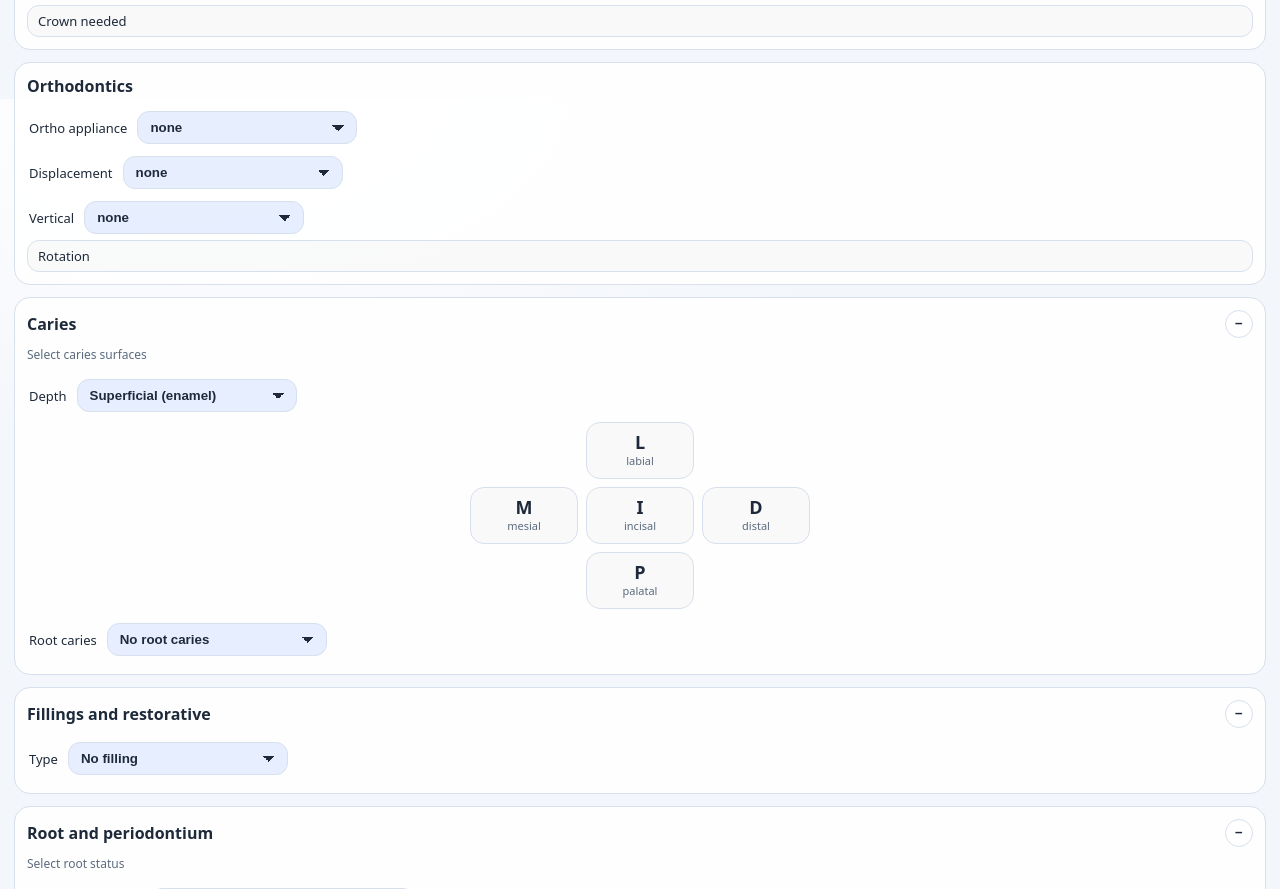
PR 3c: <CariesCard/> renders declaratively › clicking a caried surface's .surf-depth indicator opens the severity popup
(page scrolled)
Caries must be present on the surface for the indicator to act.
Click the checkbox with id "chk-caries-buccal" at point(640, 450), box [586,422,694,479]
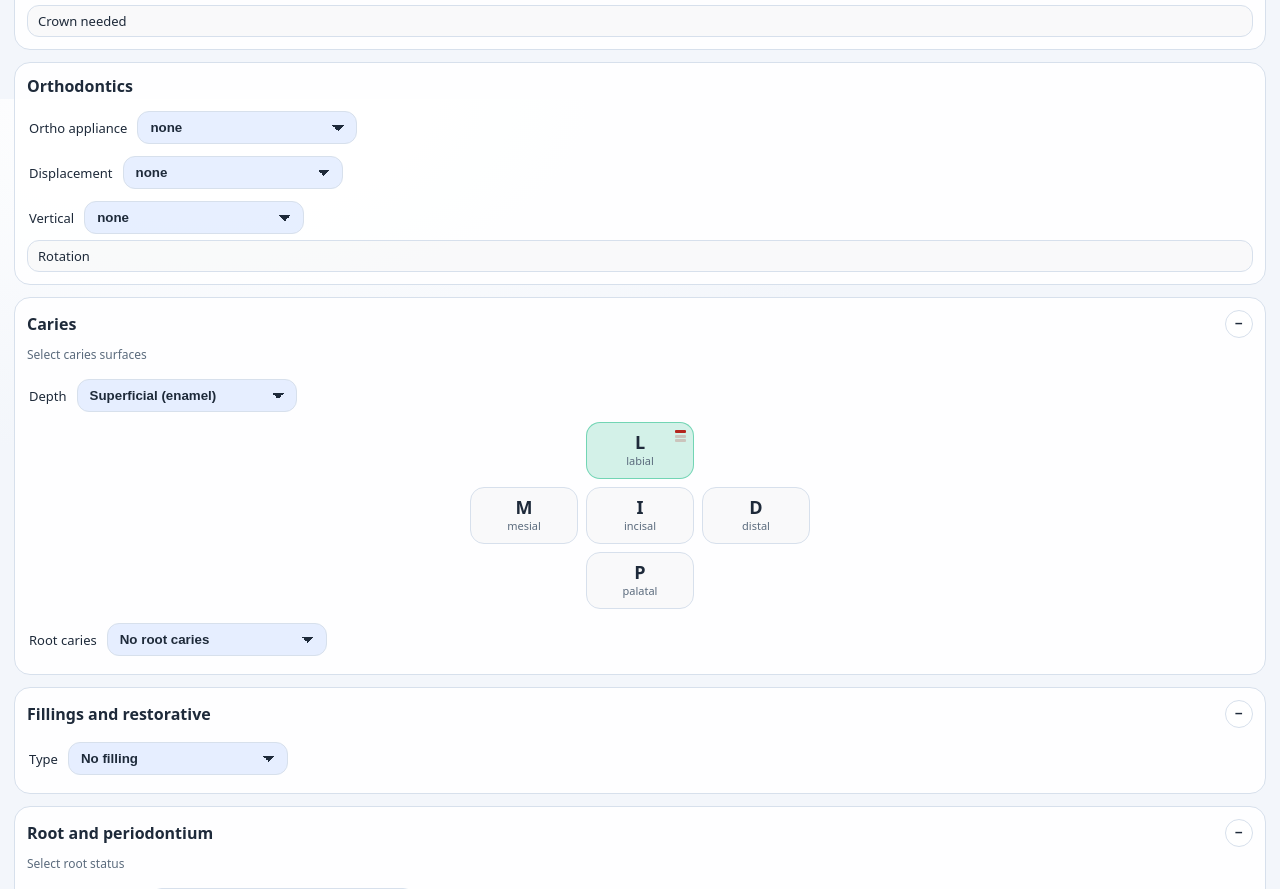
Click the element with class "surf-depth" at point(680, 436), box [675,430,686,442]
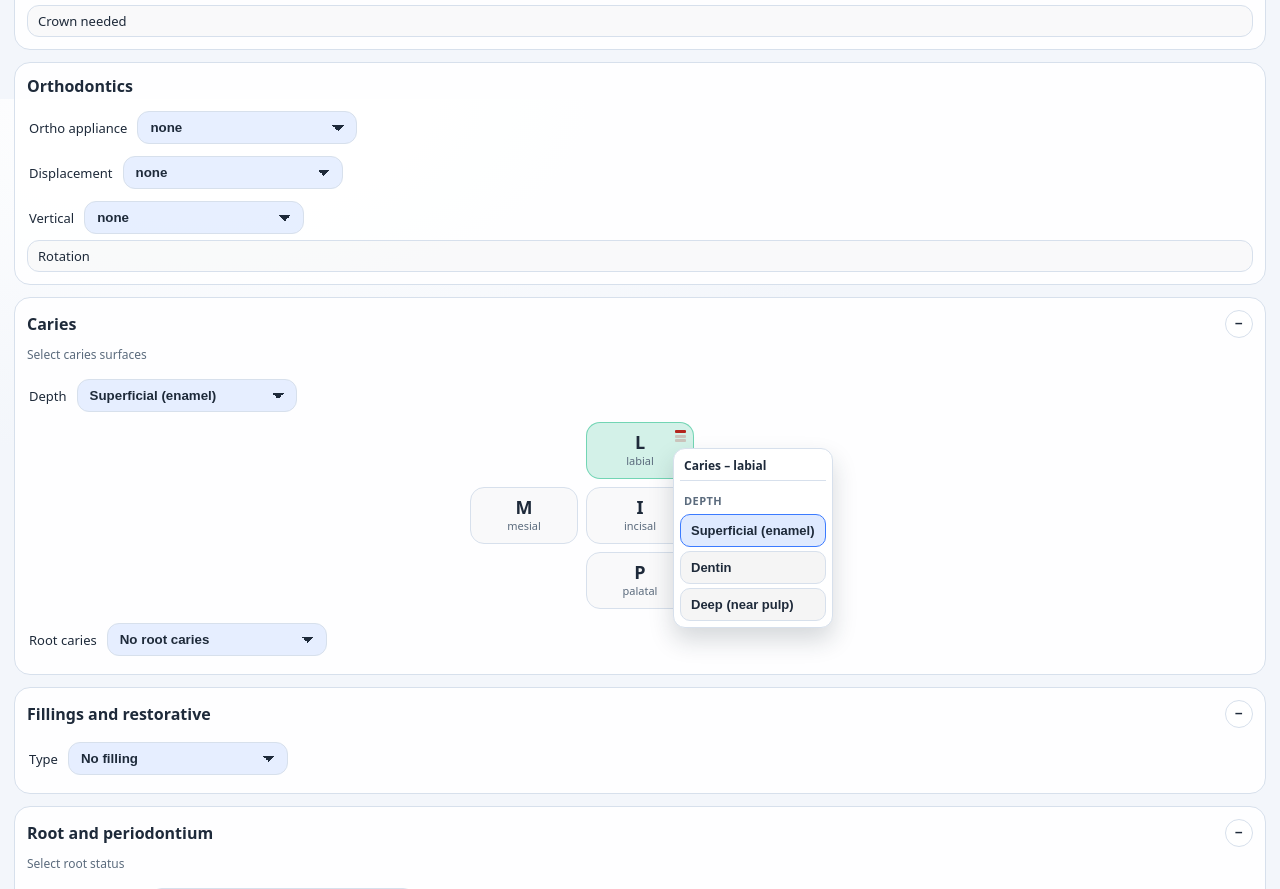
Check: the element with class "odon-depth-popup" is shown, box [673,448,832,628]
